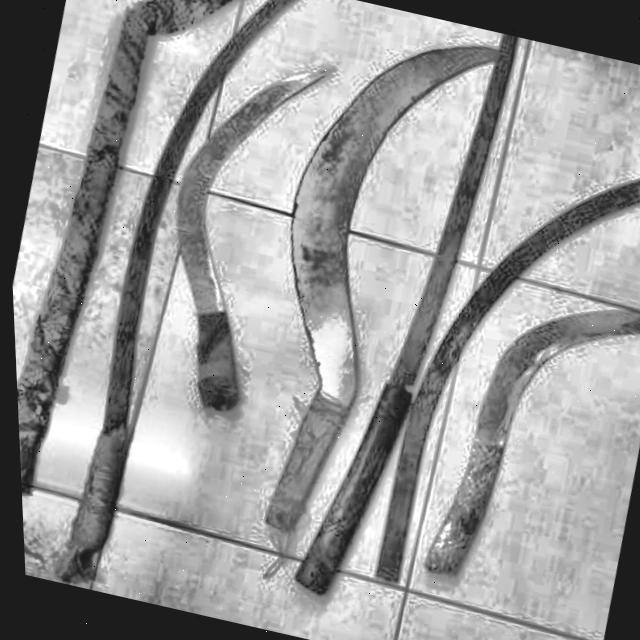celurit: (245, 36, 504, 586)
